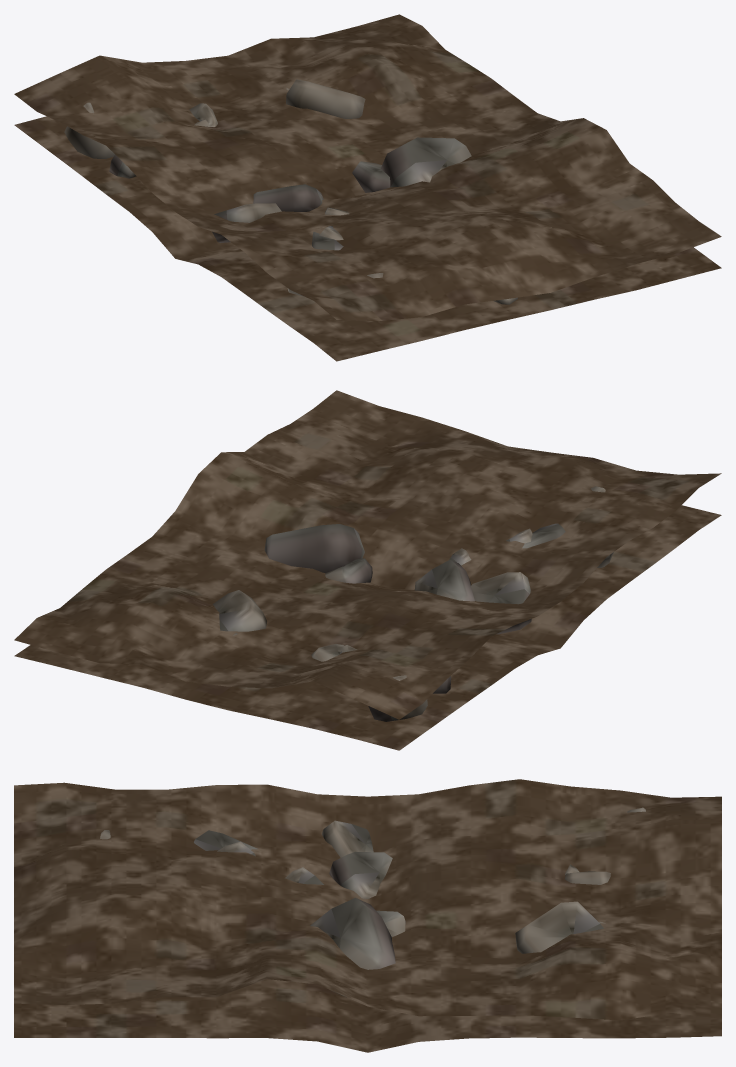
The model's file is starfort_ditch_floor_live.glb.
3 views of the same model, one above another, from view 1: azimuth 30°, elevation 25°; view 2: azimuth 150°, elevation 25°; view 3: azimuth 270°, elevation 25° (orthographic). The views are drawn at different scales.
Visible parts, largest first — view 1: silted, intact; view 2: silted, intact; view 3: silted, intact.
Boxes of the visible parts, x1,y1,x2,y2 form: silted: (14,14,721,321); intact: (14,116,721,361); silted: (14,390,721,721); intact: (14,505,721,750); silted: (14,779,721,1020); intact: (14,979,721,1052).
Size of what is drawn, in the model's own units: 4 by 0.8265 by 5.8.
Materials: 1 (1 with a texture image).
